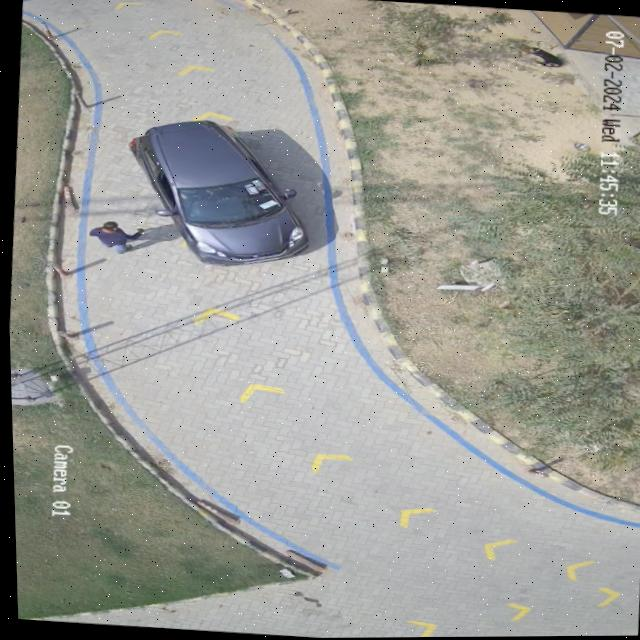car: (129, 121, 304, 265)
